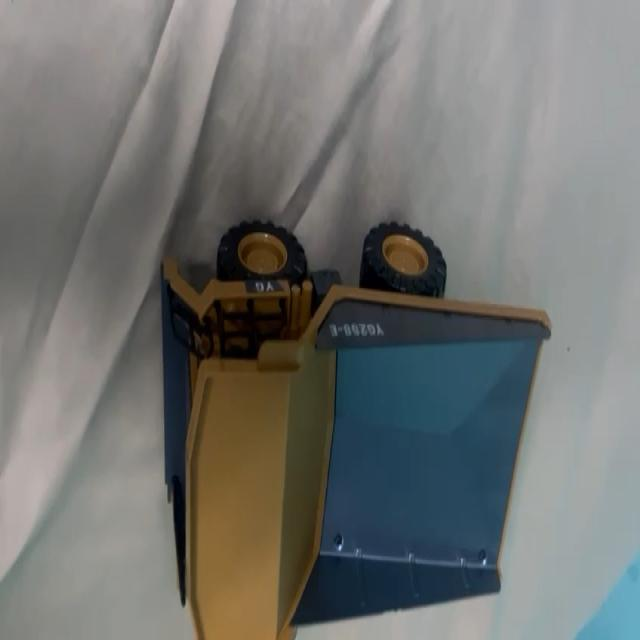dump_truck: (157, 221, 550, 640)
